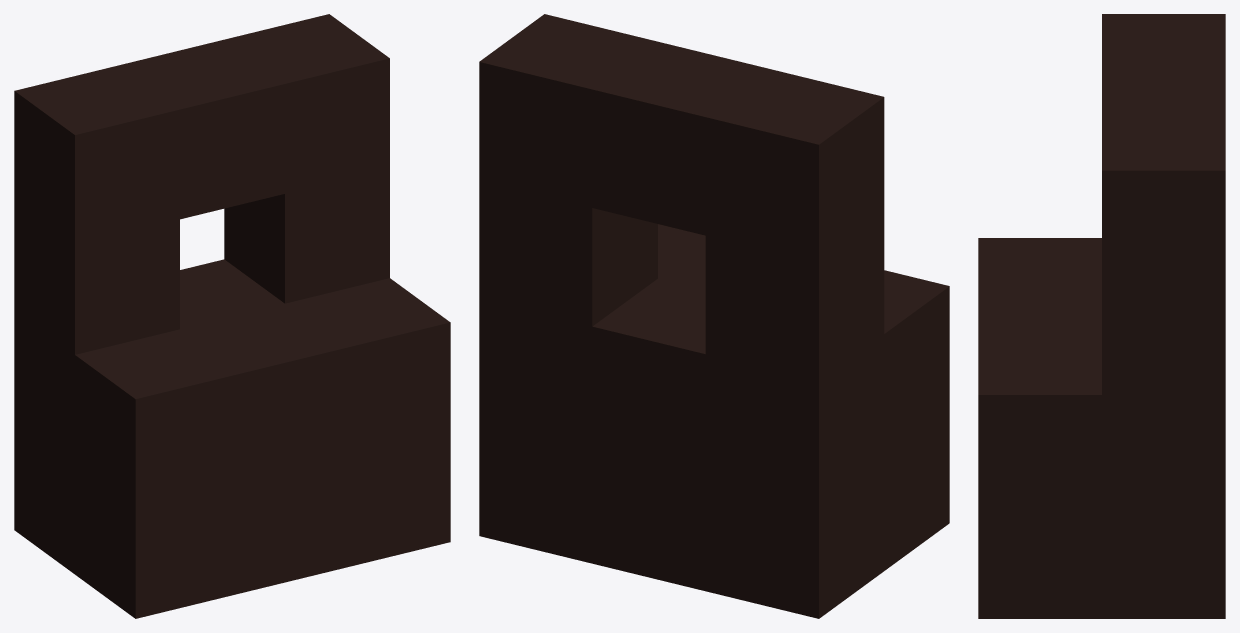
The model's file is treasure_chest_b_lock.obj.
3 views of the same model, side by side, from view 1: azimuth 30°, elevation 25°; view 2: azimuth 150°, elevation 25°; view 3: azimuth 270°, elevation 25° (orthographic). The views are drawn at different scales.
Bounding box in the file's own units: 0.3 × 0.4 × 0.2.
Materials: 1 (1 with a texture image).
